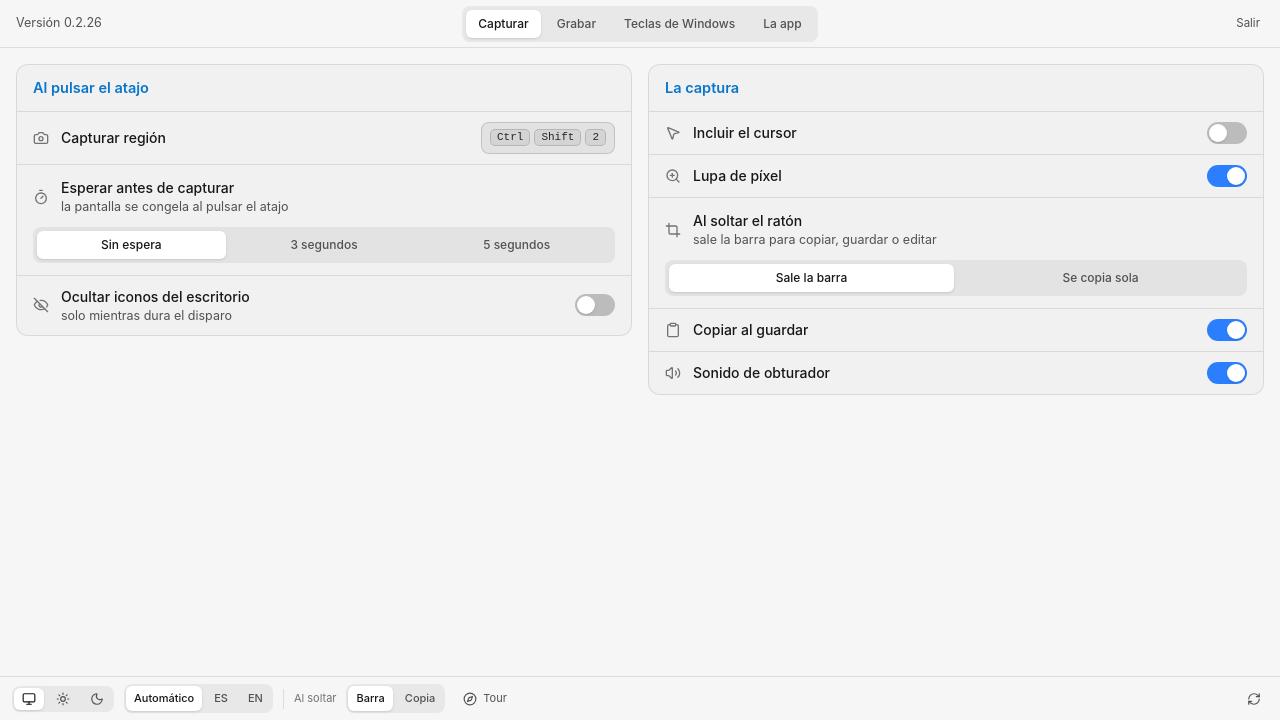
Scenario: los ultimos segundos, en «Grabar» › apagado, explica lo que va a hacer antes de que nadie lo encienda
The image size is (1280, 720).
Expected: the button "Capturar" is shown, [466, 10, 541, 38]
What coordinates should you click on to do the following:
click the button "Grabar"
I would click on:
 (576, 24)
Its box is [545, 10, 608, 38].
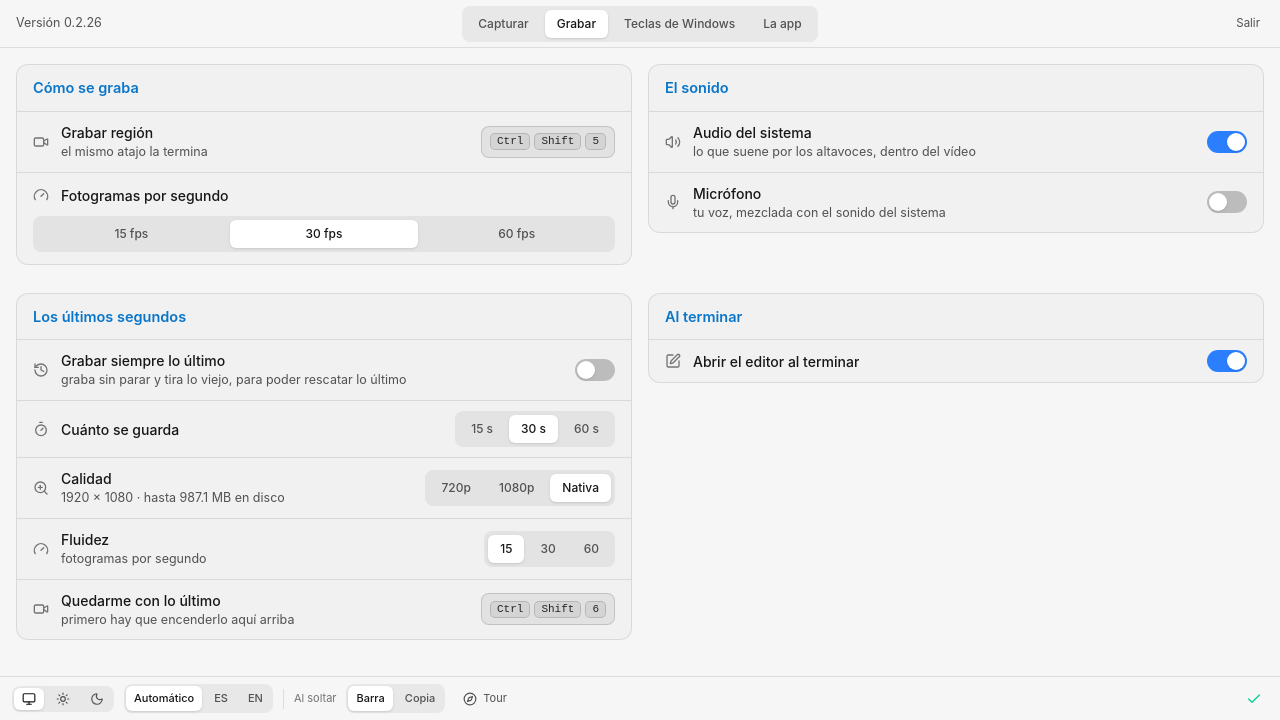
Expected: the heading "Los últimos segundos" is shown, [17, 294, 631, 340]
Expected: the text "graba sin parar y tira lo viejo" is shown, [61, 372, 406, 387]
